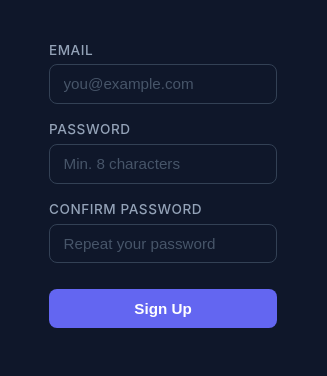
Scenario: SignupForm › shows an error for a short password
In the field labelled "Email": (163, 84) [49,64,277,104], type "user@example.com"
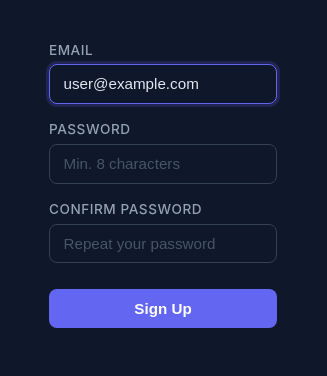
In the password field labelled "Password": (163, 164) [49,144,277,184], type "short"
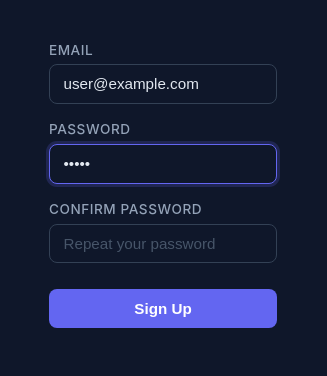
In the password field labelled "Confirm Password": (163, 244) [49,224,277,263], type "short"
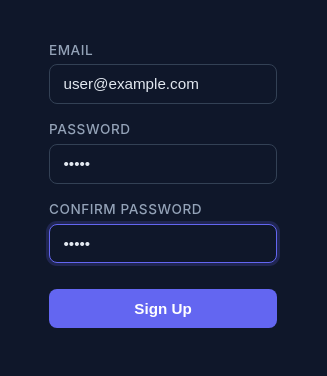
Click the button "Sign Up": (163, 309) [49,289,277,328]
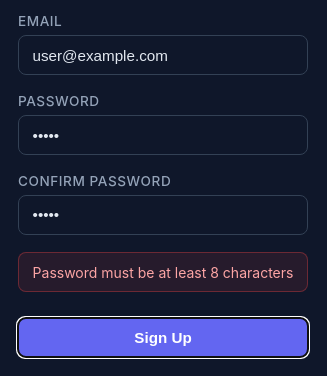
Expected: the text "Password must be at least 8 characters" is shown, [18,252,308,292]
